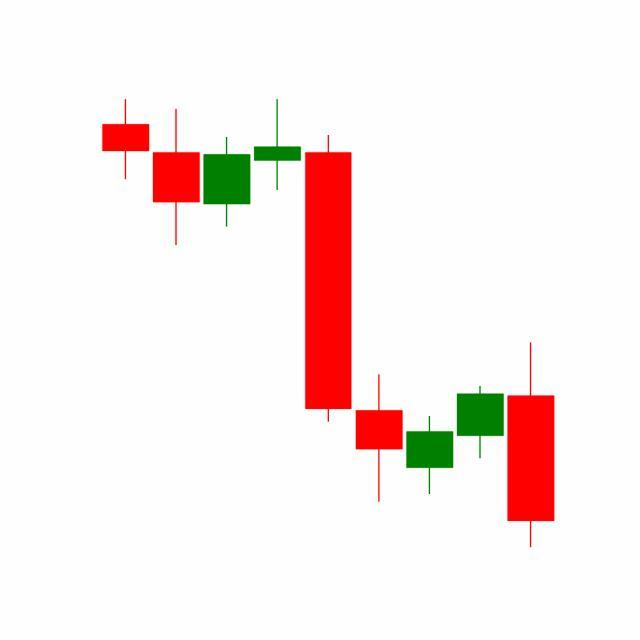Hikkake Pattern: (302, 130, 555, 548)
